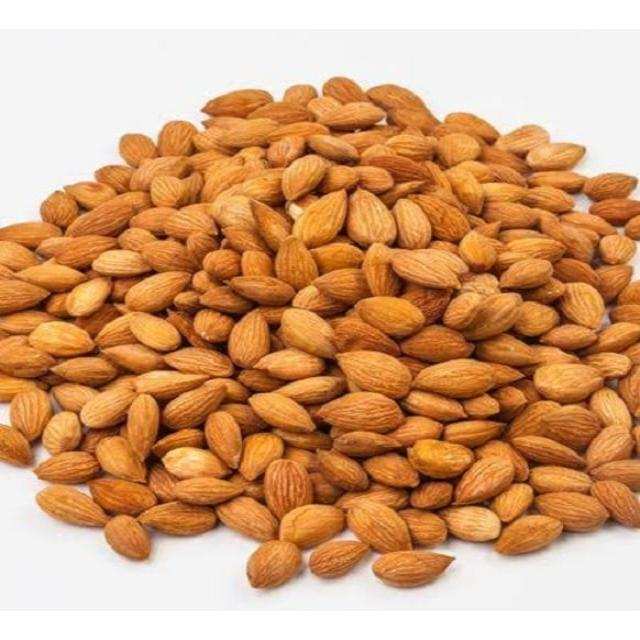cekirdek: (172, 228, 421, 459), (35, 323, 101, 365)
